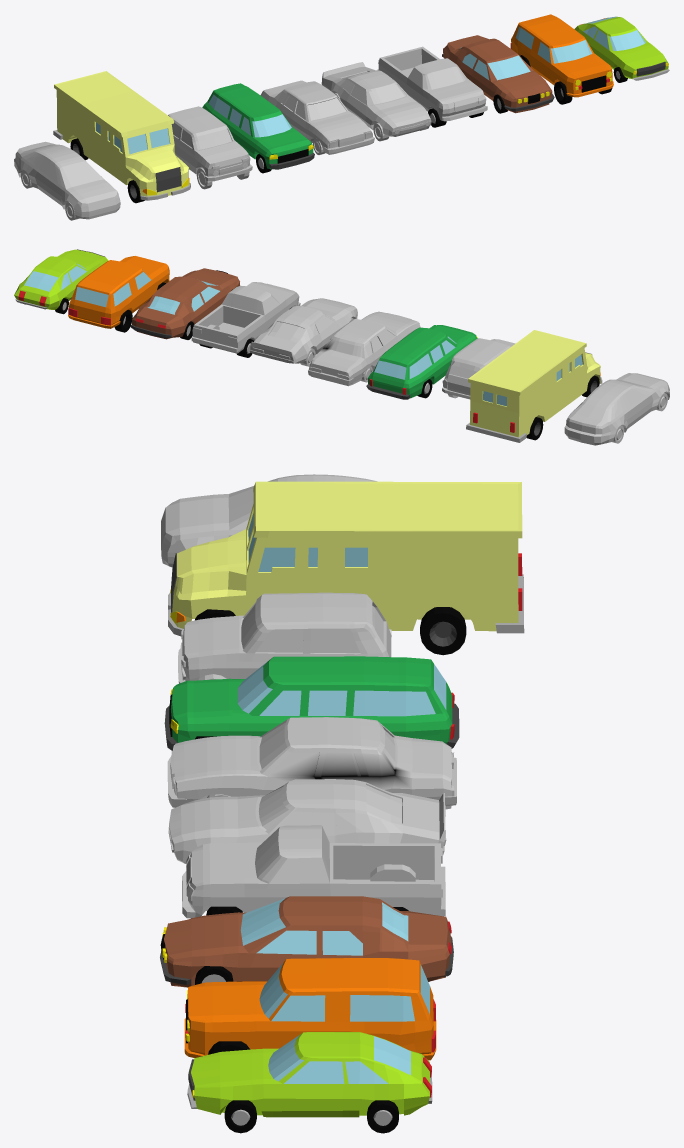
Rendered from uploads_files_6002349_Car+Pack+.fbx.
3 renders of one model, top to bottom at view 1: azimuth 30°, elevation 25°; view 2: azimuth 150°, elevation 25°; view 3: azimuth 270°, elevation 25°, orthographic. The views are drawn at different scales.
Visible parts, largest first — view 1: Cylinder.002, Cube.005, Cube.004, Cylinder.001, Cylinder, Cube.002, Cube.003, Cube, Cube.001, Cube.006; view 2: Cylinder.002, Cube.005, Cube.004, Cylinder.001, Cube.002, Cylinder, Cube, Cube.003, Cube.006, Cube.001; view 3: Cylinder.002, Cube.005, Cube.004, Cylinder, Cube.006, Cube, Cube.002, Cube.003, Cube.001, Cylinder.001.
Boxes of the visible parts, x1,y1,x2,y2 form: Cylinder.002: [53, 71, 190, 203]; Cube.005: [510, 14, 613, 104]; Cube.004: [202, 83, 314, 173]; Cylinder.001: [14, 141, 120, 220]; Cylinder: [442, 35, 554, 113]; Cube.002: [377, 46, 487, 127]; Cube.003: [321, 62, 431, 141]; Cube: [260, 80, 374, 154]; Cube.001: [168, 106, 252, 189]; Cube.006: [574, 16, 669, 82]; Cylinder.002: [466, 330, 602, 442]; Cube.005: [68, 256, 169, 332]; Cube.004: [366, 325, 477, 399]; Cylinder.001: [564, 373, 669, 445]; Cube.002: [191, 282, 300, 357]; Cylinder: [130, 268, 240, 339]; Cube: [308, 311, 420, 386]; Cube.003: [249, 298, 357, 366]; Cube.006: [14, 249, 108, 314]; Cube.001: [442, 338, 515, 399]; Cylinder.002: [168, 481, 524, 655]; Cube.005: [184, 958, 436, 1060]; Cube.004: [164, 656, 459, 750]; Cylinder: [160, 896, 453, 987]; Cube.006: [187, 1032, 432, 1133]; Cube: [167, 717, 456, 809]; Cube.002: [182, 825, 445, 918]; Cube.003: [168, 779, 446, 863]; Cube.001: [178, 592, 391, 683]; Cylinder.001: [161, 474, 377, 567].
Size of the model in its own units: 1573 by 181 by 415.
